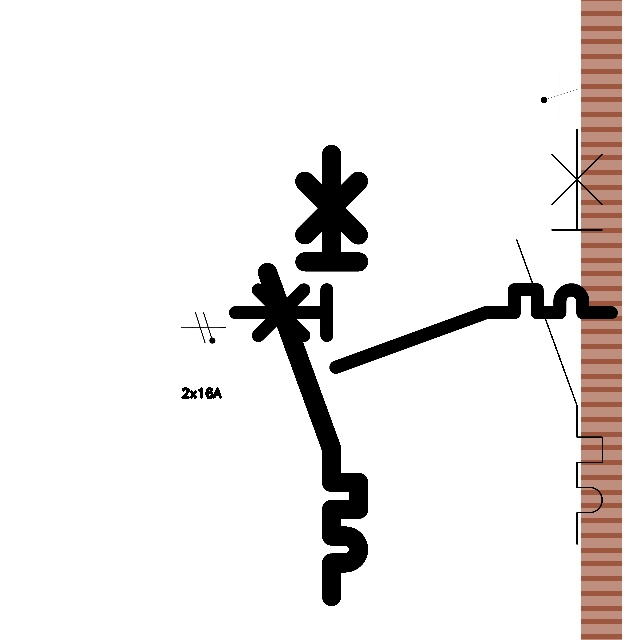interruptor_termomagnetico: (256, 143, 370, 608), (506, 118, 613, 555), (225, 280, 620, 376)
